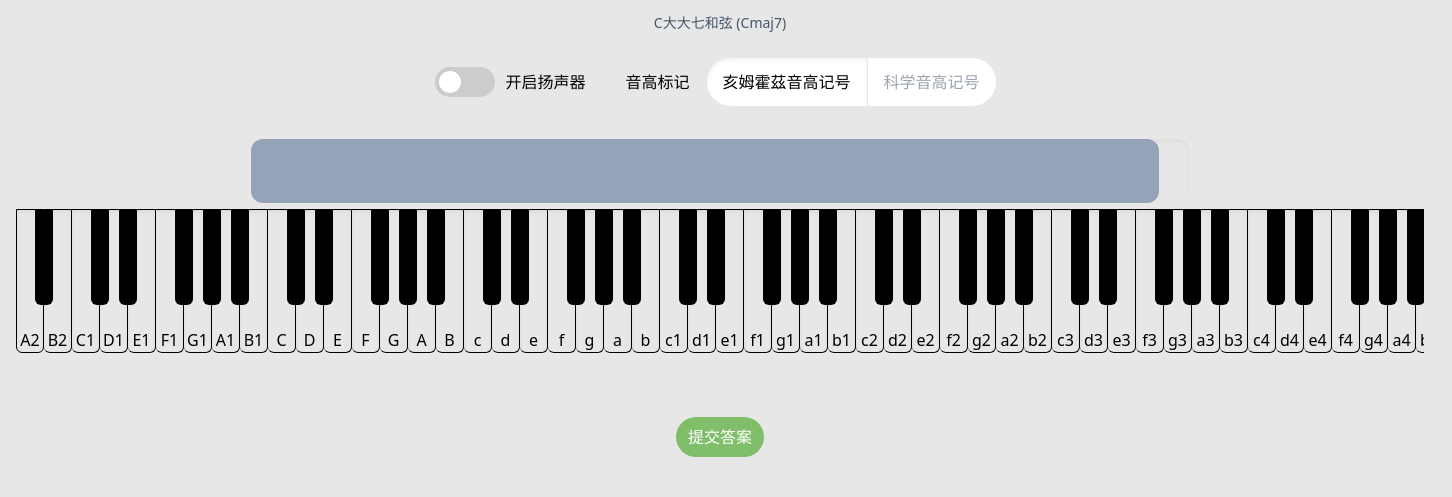
Scenario: ChordVirtualPiano › submitting all correct keys shows 正确✅ (C major-major seventh)
Step 1. Click the element with test id "piano-key-60" → (674, 281), box top-left (660, 209), bottom-right (688, 353)
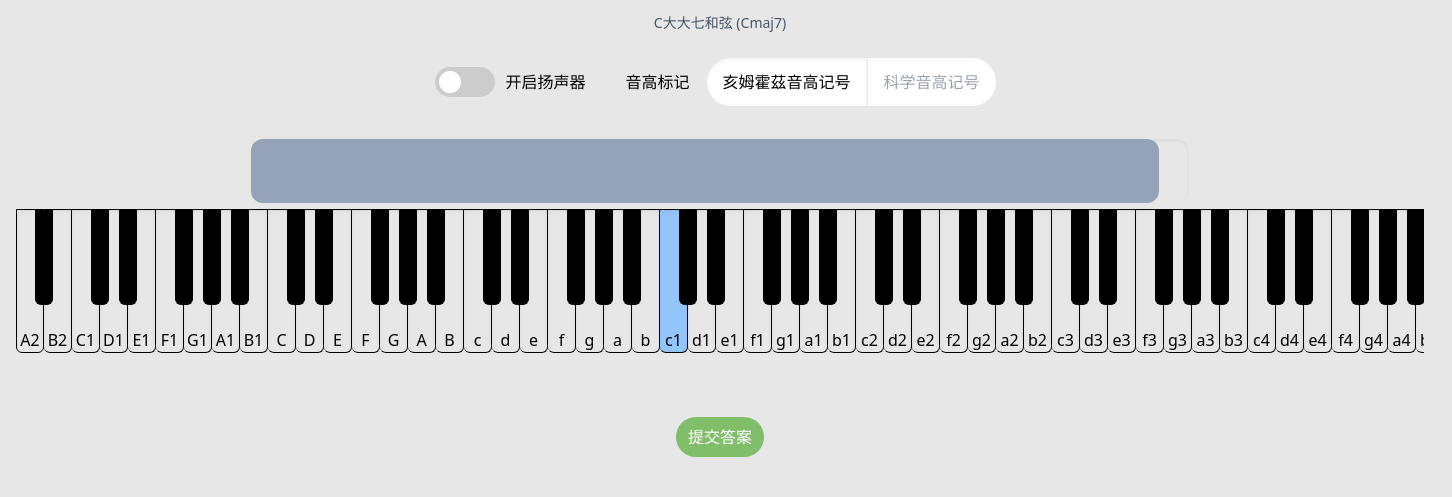
Step 2. Click the element with test id "piano-key-64" → (730, 281), box top-left (716, 209), bottom-right (744, 353)
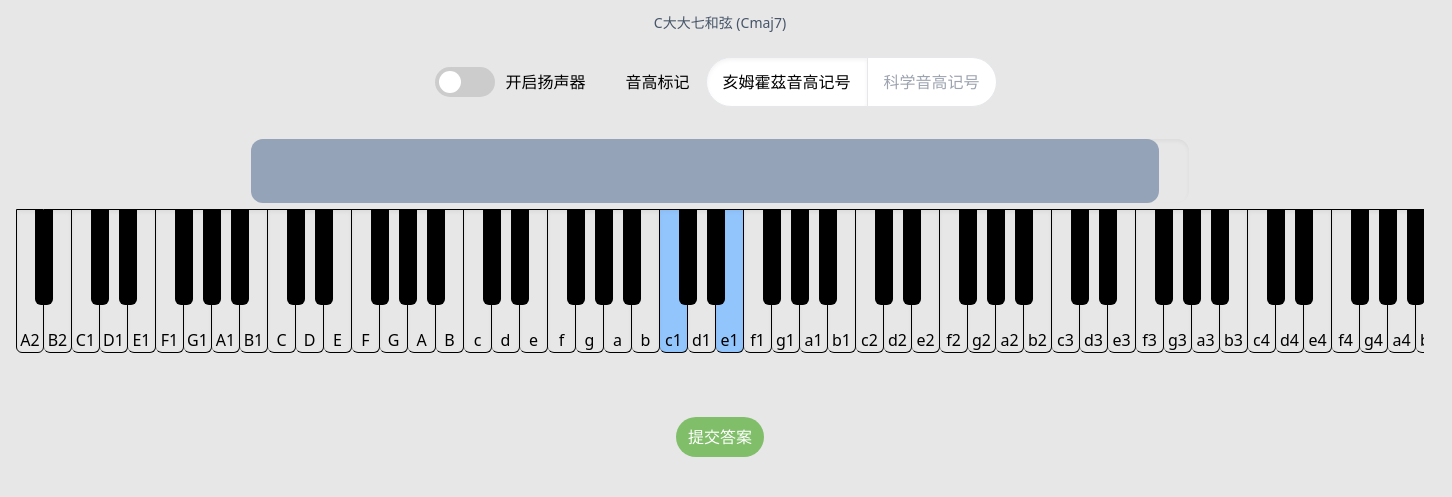
Step 3. Click the element with test id "piano-key-67" → (786, 281), box top-left (772, 209), bottom-right (800, 353)
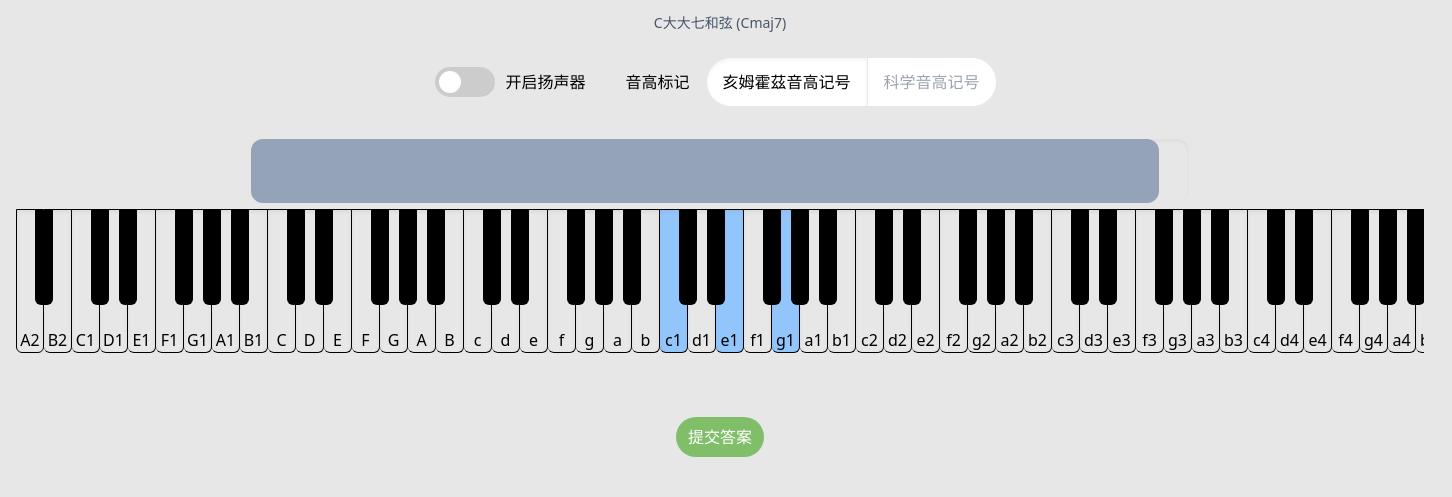
Step 4. Click the element with test id "piano-key-71" → (842, 281), box top-left (828, 209), bottom-right (856, 353)
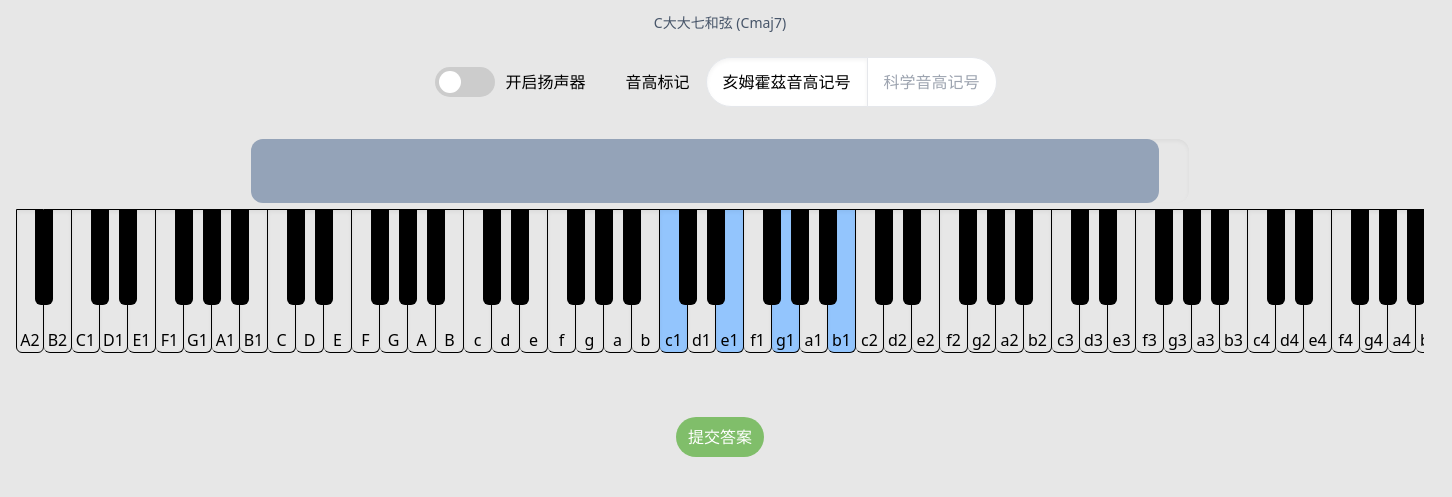
Step 5. Click the button "提交答案" → (720, 437), box top-left (676, 417), bottom-right (764, 457)
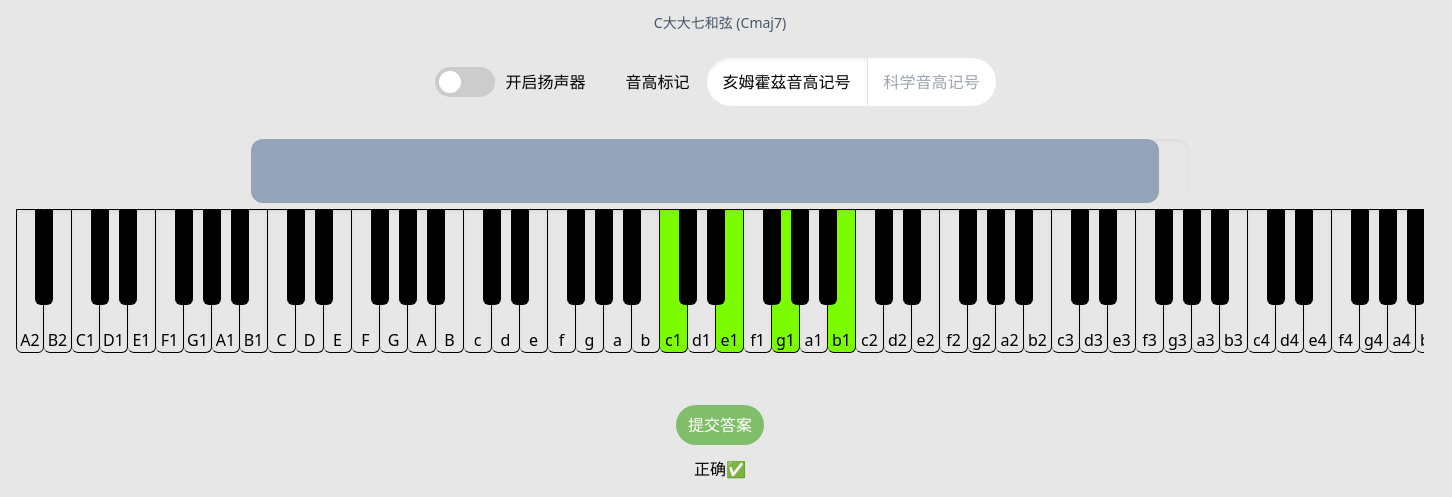
expect the text with test id "virtual-piano-message" reads "正确✅": met, box top-left (694, 458), bottom-right (746, 480)
